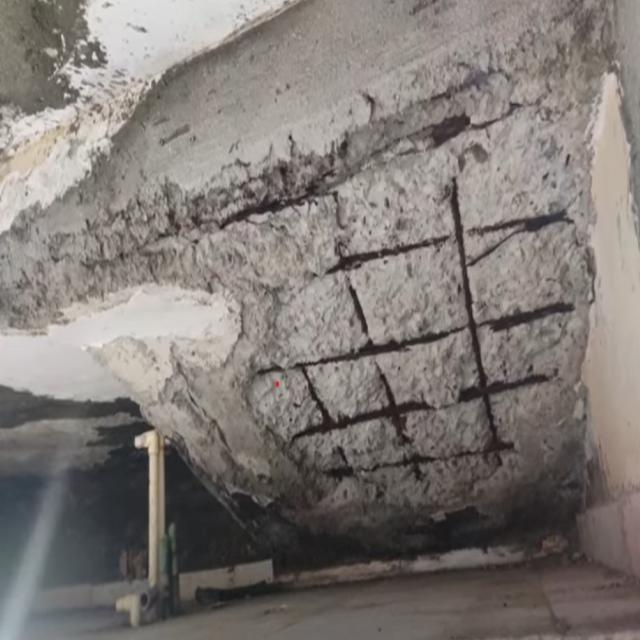Spalling: (3, 18, 615, 575)
